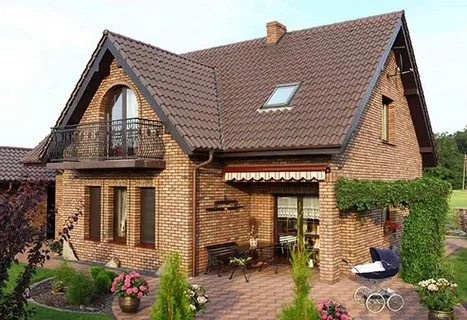private_hause: (56, 24, 434, 263)
